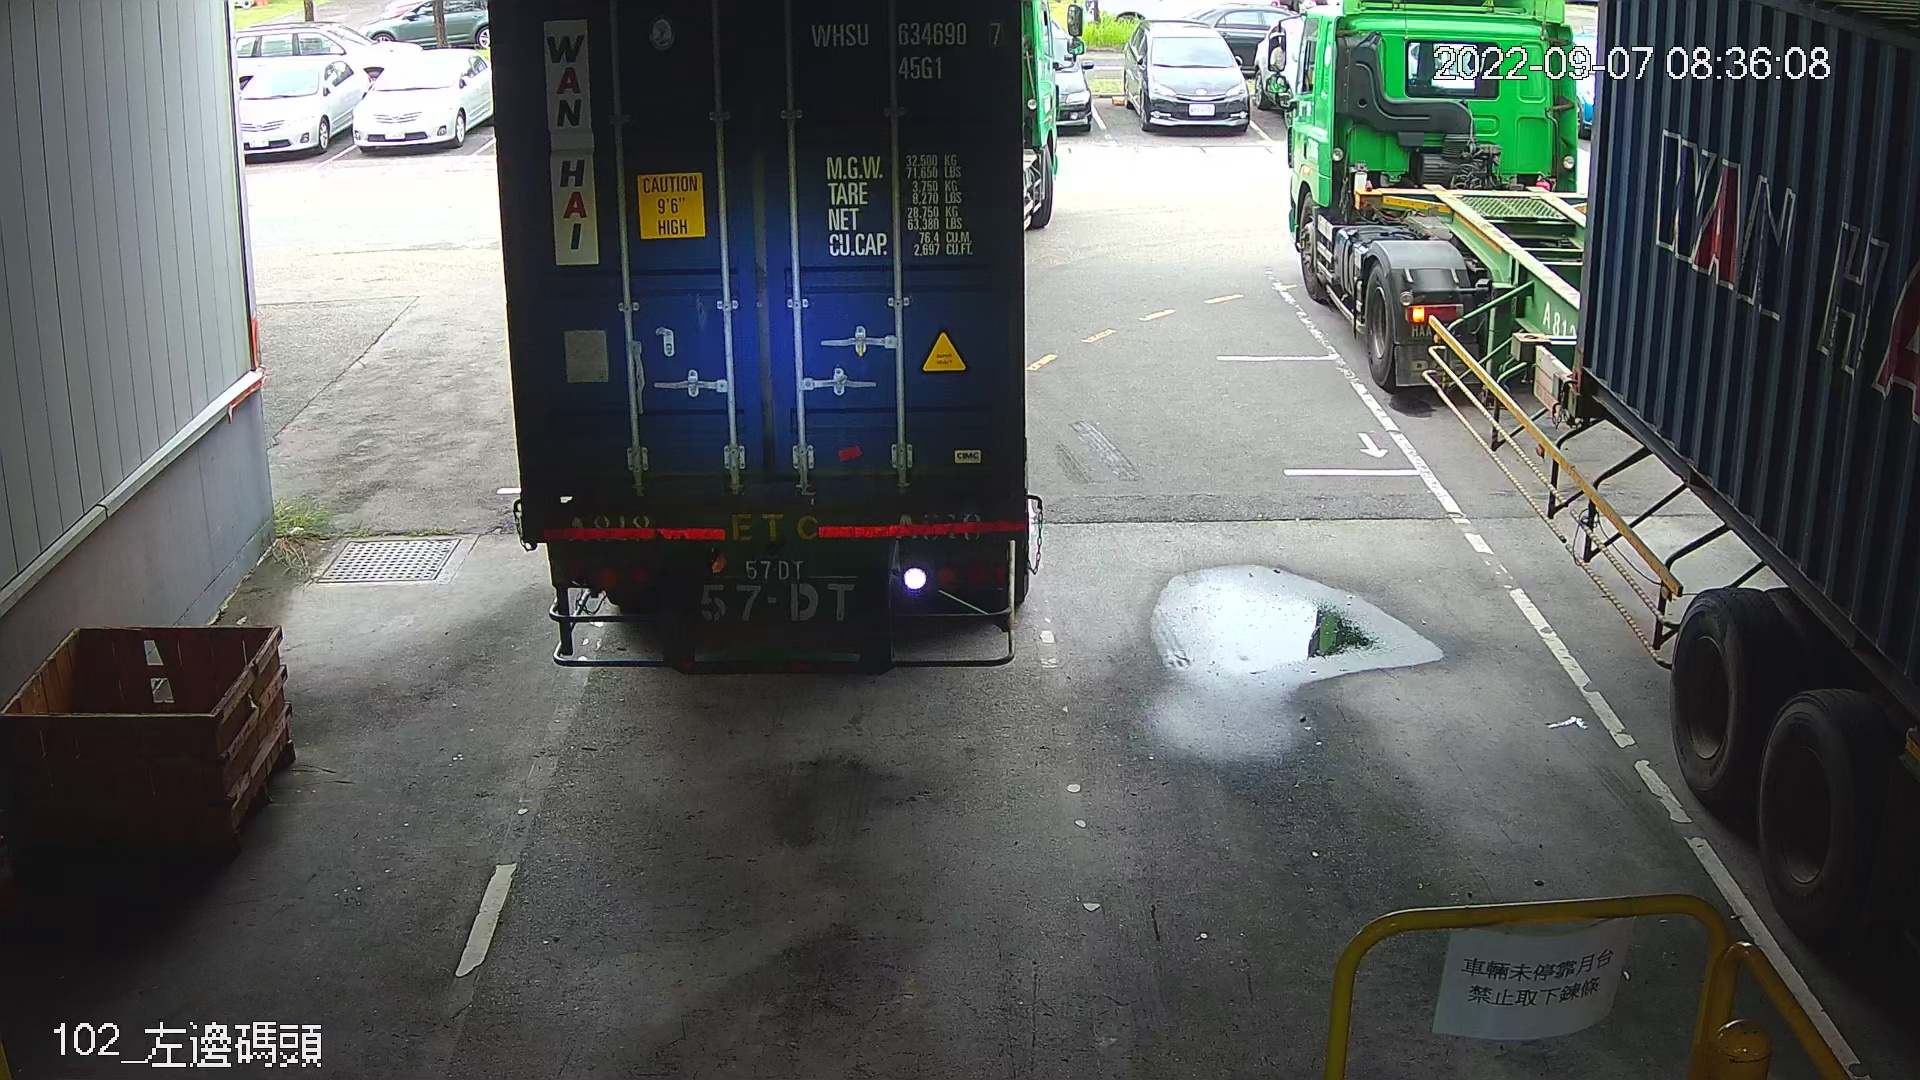container: (804, 11, 1011, 88)
